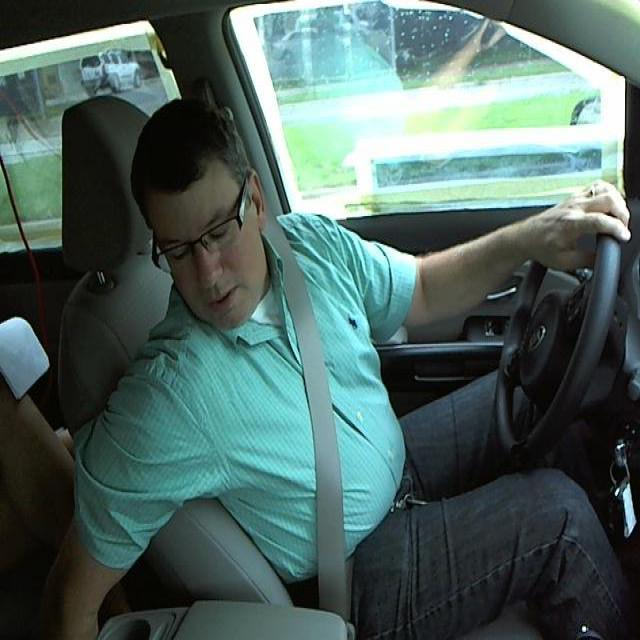seatbelt: (268, 267, 367, 613)
